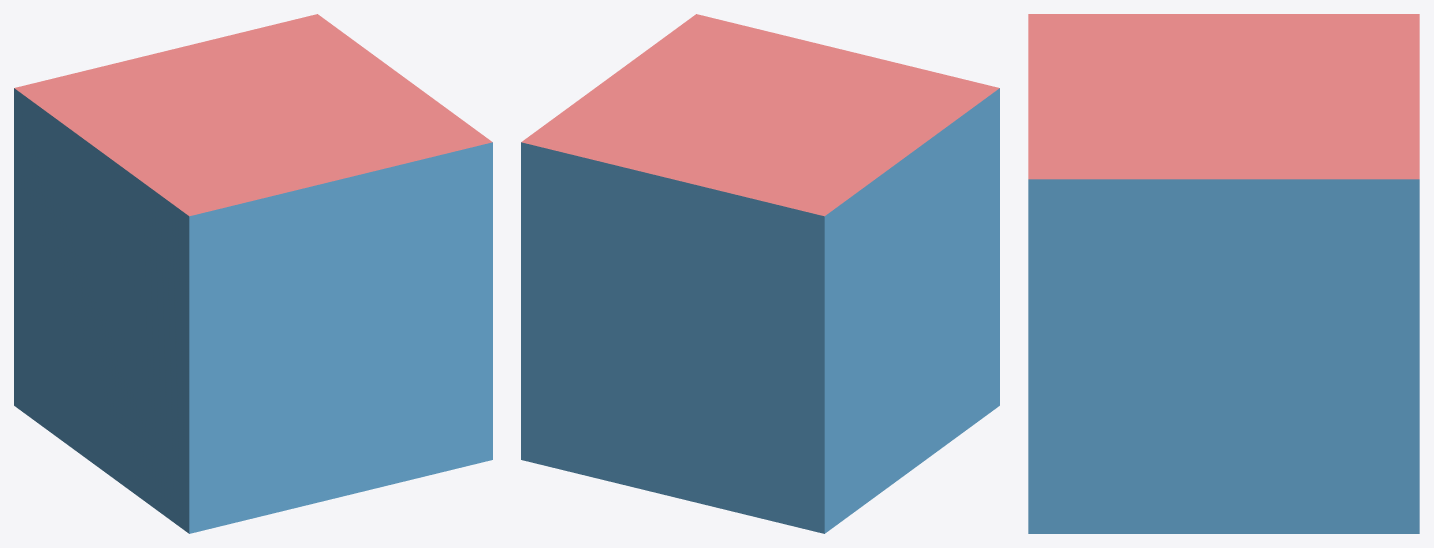
File: CuboOcoTampa.fbx
3 views of the same model, side by side, from view 1: azimuth 30°, elevation 25°; view 2: azimuth 150°, elevation 25°; view 3: azimuth 270°, elevation 25° (orthographic). The views are drawn at different scales.
Visible parts, largest first — view 1: Cubo_Oco, Tampa; view 2: Cubo_Oco, Tampa; view 3: Cubo_Oco, Tampa.
Part boxes in pixels (x1,y1,x2,y2): Cubo_Oco: [14, 88, 492, 533]; Tampa: [14, 14, 492, 216]; Cubo_Oco: [521, 88, 999, 533]; Tampa: [521, 14, 999, 216]; Cubo_Oco: [1028, 179, 1419, 533]; Tampa: [1028, 14, 1419, 179].
Size of the model in its own units: 100 by 100 by 100.
